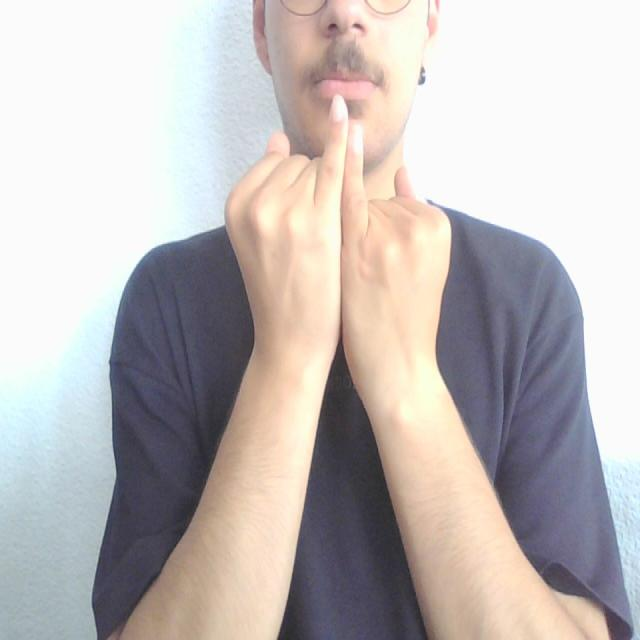Kardes: (222, 88, 456, 377)
